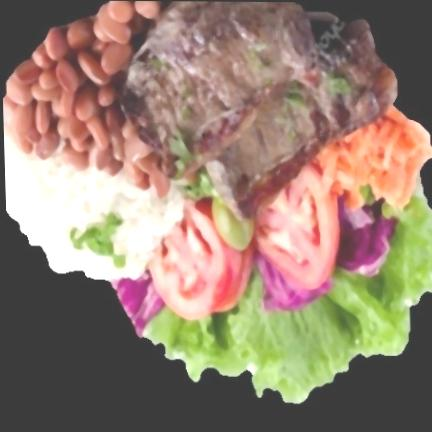beans: (4, 1, 173, 190)
carrot: (314, 110, 431, 213)
meat: (128, 1, 395, 219)
rice: (3, 110, 190, 276)
salad: (146, 178, 432, 401)
tomato: (148, 161, 340, 318)
